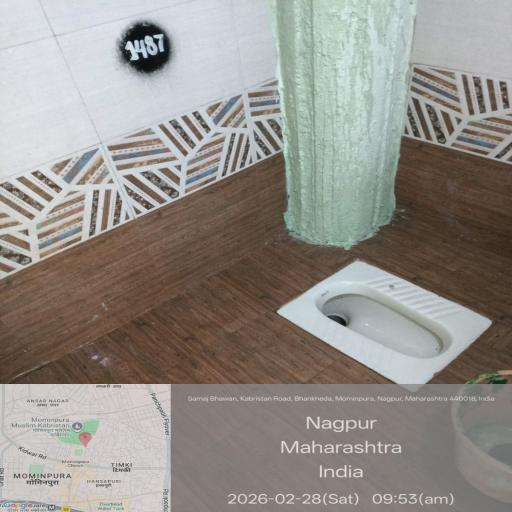clean_floor: (52, 224, 510, 512), (26, 45, 390, 219)
clean_indian: (267, 272, 512, 406)
